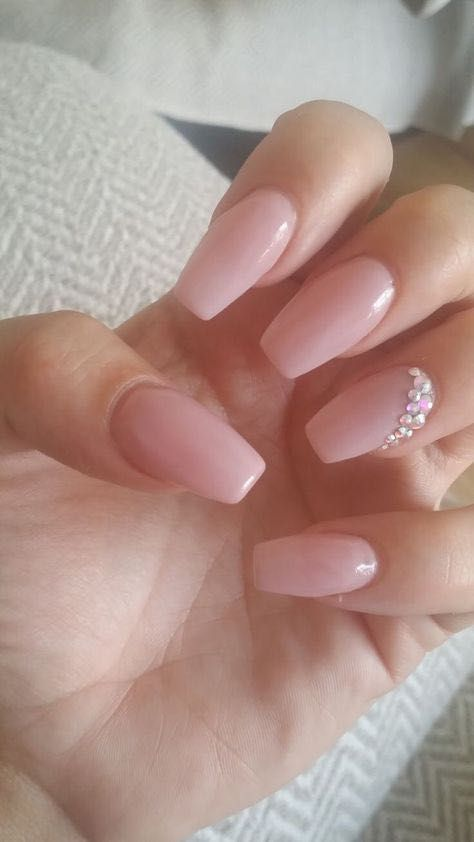nails: (96, 374, 273, 511), (169, 177, 304, 330), (251, 252, 400, 384), (299, 368, 438, 467), (246, 525, 388, 602)
